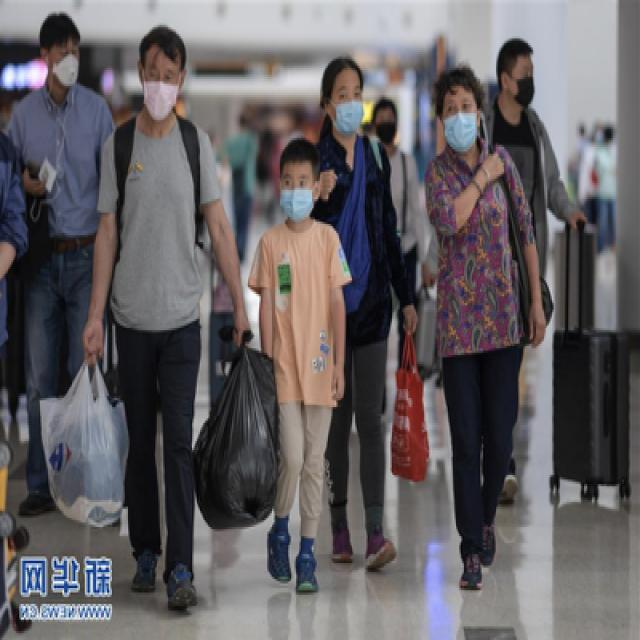mask: (143, 54, 180, 120), (443, 90, 480, 152), (333, 74, 365, 134), (282, 168, 316, 222), (52, 36, 82, 86), (510, 55, 536, 106), (374, 111, 398, 145)
